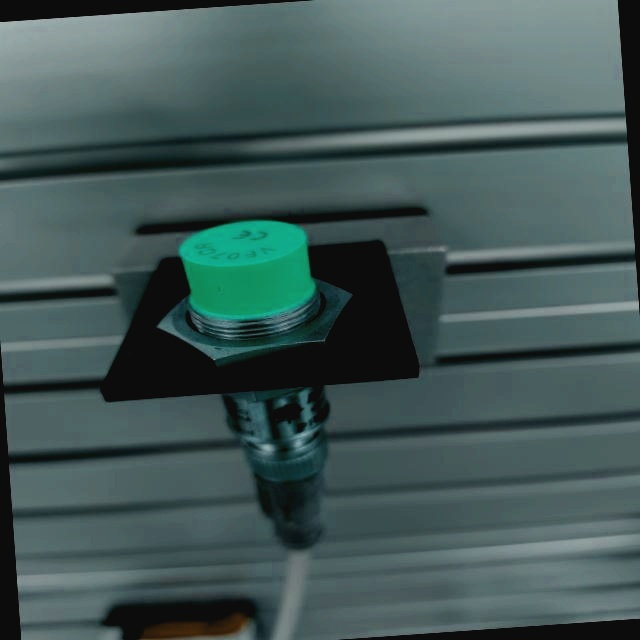inductive sensor: (80, 197, 481, 568)
